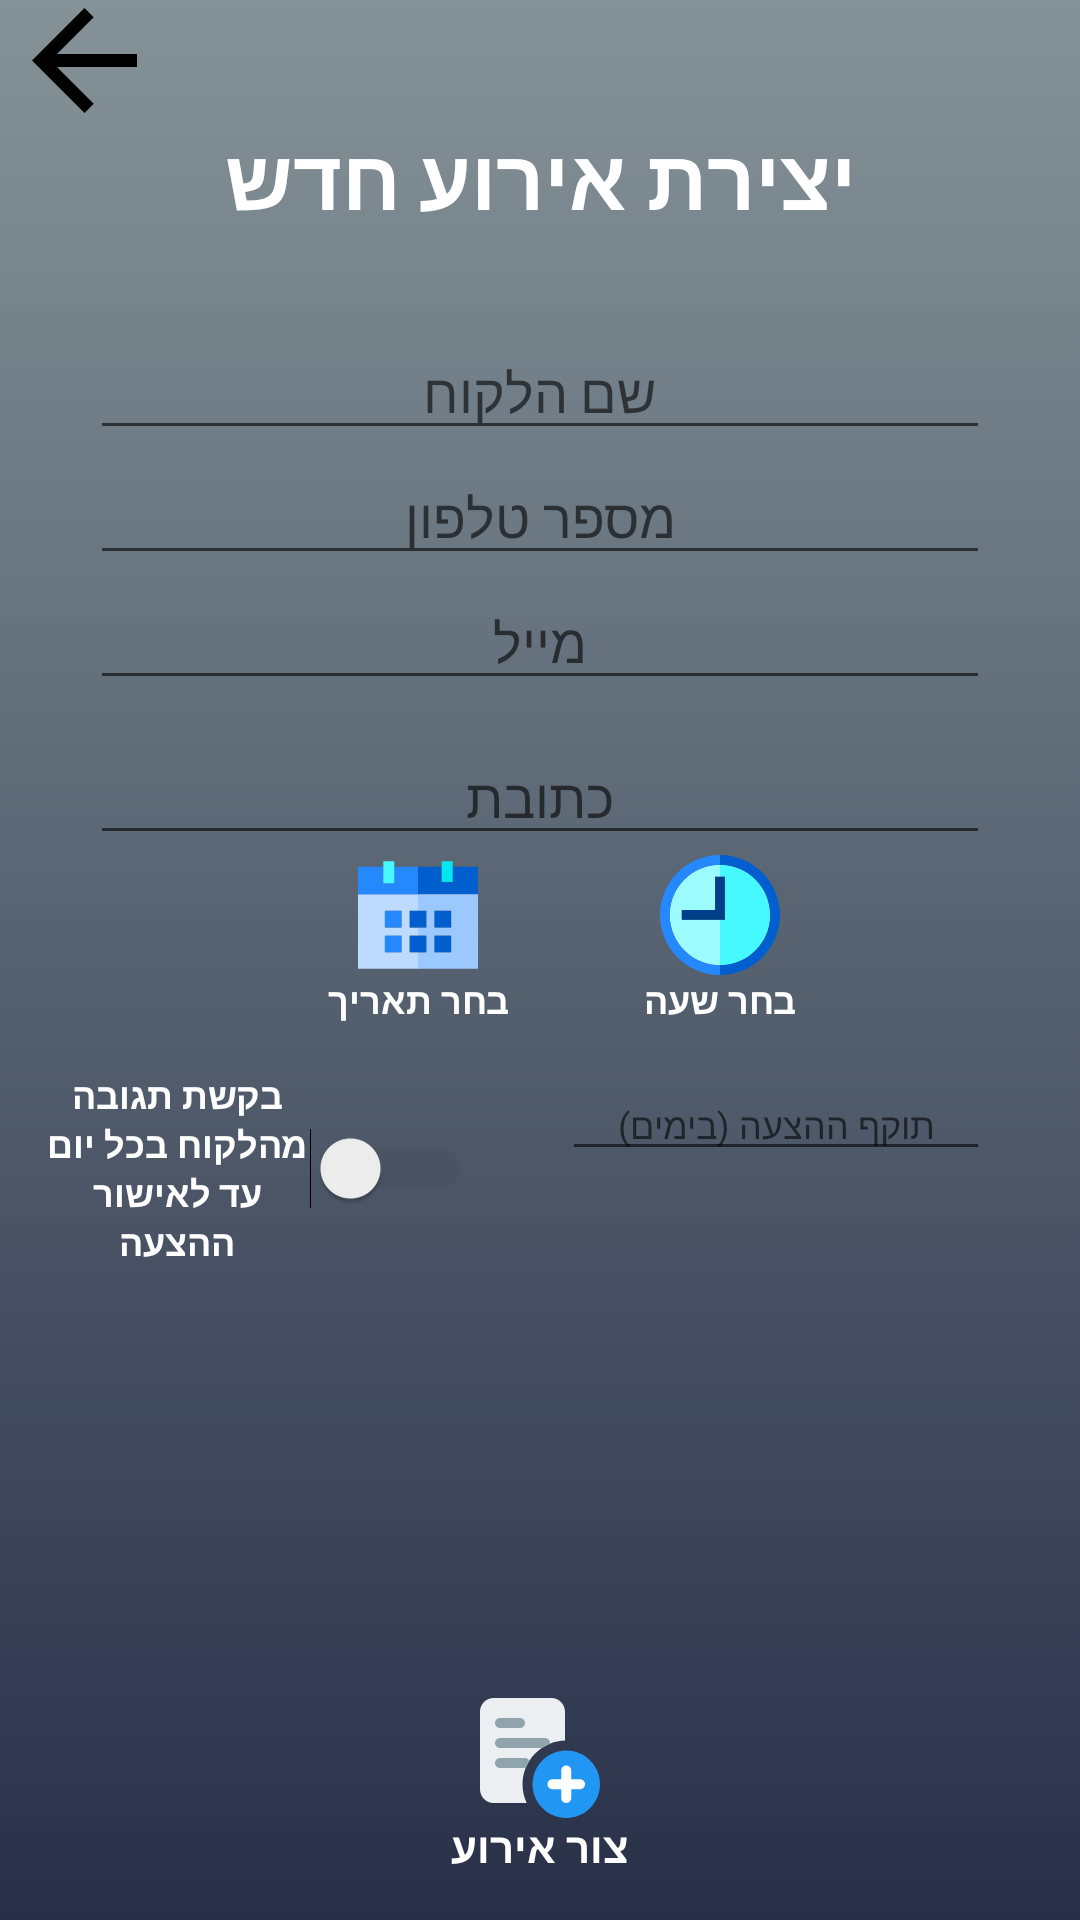

Screen size 1080*1920. Icon name, then its center in pixels as (x,y):
add file: (540,1758)
calendar: (418,915)
clock: (720,915)
